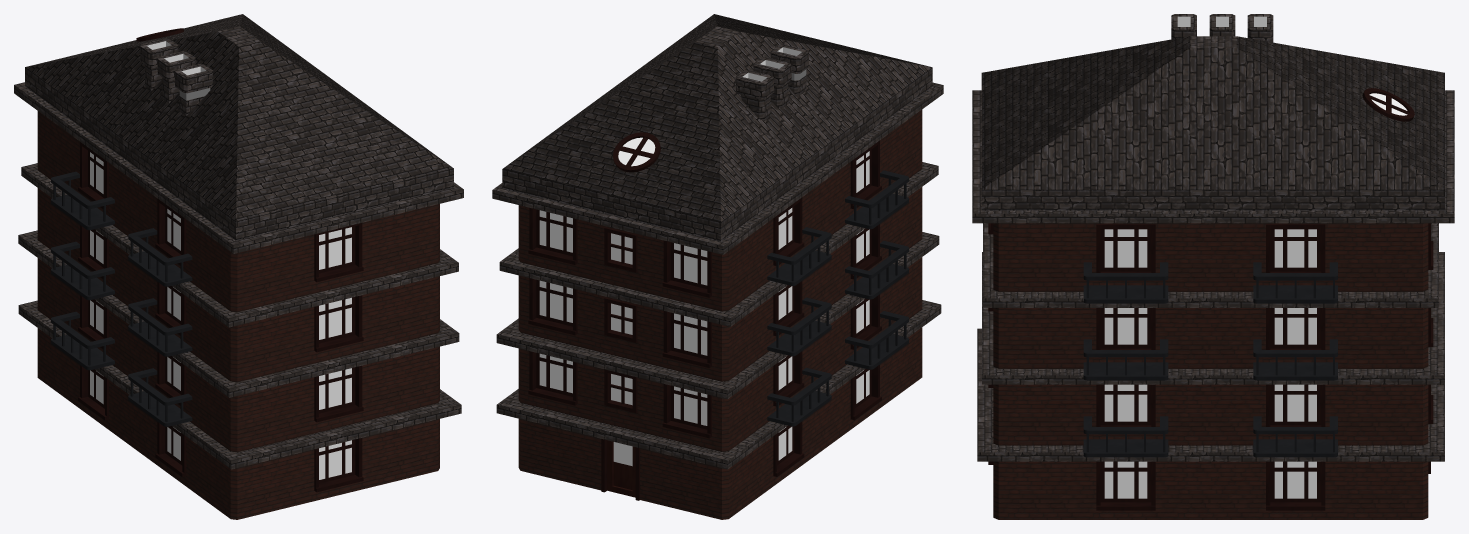
Rendered from Appartement_1.glb.
3 renders of one model, left to right at view 1: azimuth 30°, elevation 25°; view 2: azimuth 150°, elevation 25°; view 3: azimuth 270°, elevation 25°, orthographic. The views are drawn at different scales.
Visible parts, largest first — view 1: mergedBlocks(Clone); view 2: mergedBlocks(Clone); view 3: mergedBlocks(Clone).
Part boxes in pixels (x1,y1,x2,y2): mergedBlocks(Clone): (14, 14, 463, 519); mergedBlocks(Clone): (492, 14, 943, 519); mergedBlocks(Clone): (972, 14, 1454, 519).
Bounding box in the file's own units: 3.92 × 5.5 × 5.68.
Materials: 10 (6 with a texture image).
